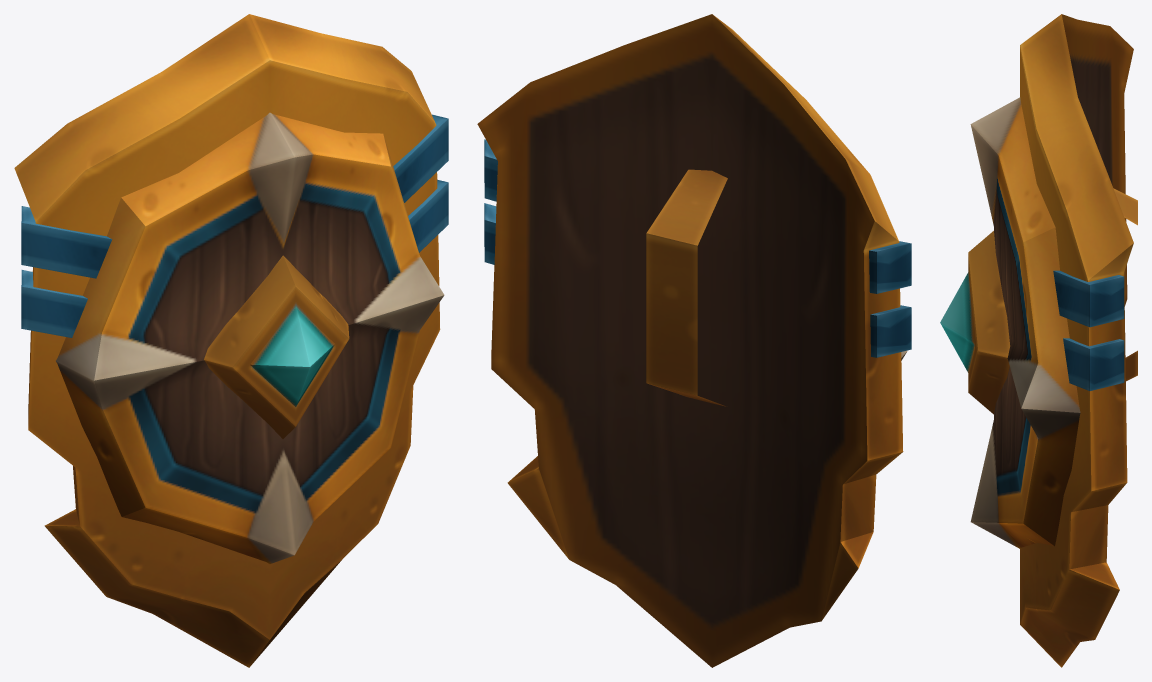
File: Shield.glb
3 views of the same model, side by side, from view 1: azimuth 30°, elevation 25°; view 2: azimuth 150°, elevation 25°; view 3: azimuth 270°, elevation 25° (orthographic).
Visible parts, largest first — view 1: Shield; view 2: Shield; view 3: Shield.
Part boxes in pixels (left/top/right/bottom): Shield: left=14, top=14, right=448, bottom=667; Shield: left=477, top=14, right=911, bottom=667; Shield: left=940, top=14, right=1137, bottom=667.
Size of the model in its own units: 0.6297 by 0.9212 by 0.2525.
1 material, 1 textured.
